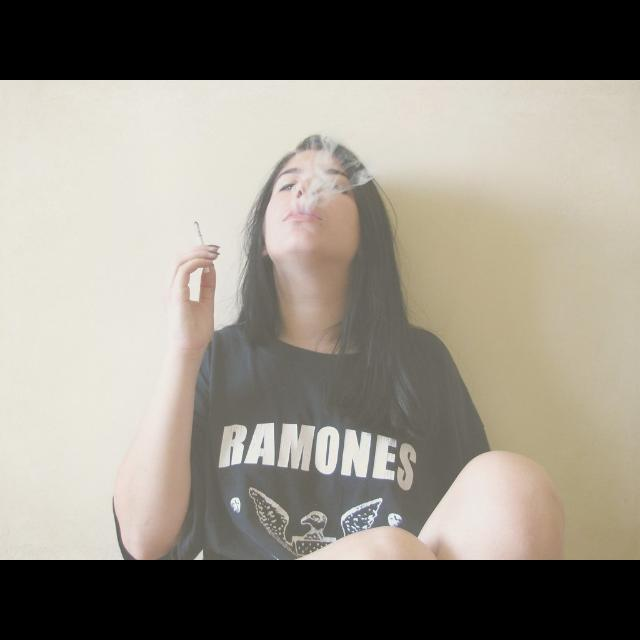rokok: (188, 217, 210, 250)
